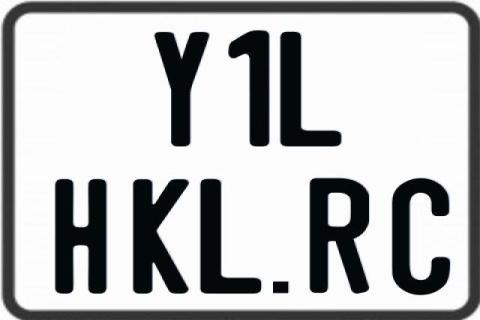0: (228, 29, 273, 145)
C: (389, 176, 450, 297)
H: (52, 178, 107, 296)
K: (130, 179, 190, 299)
L: (280, 30, 344, 150), (199, 178, 260, 294)
R: (309, 178, 370, 296)
Y: (153, 30, 209, 144)
